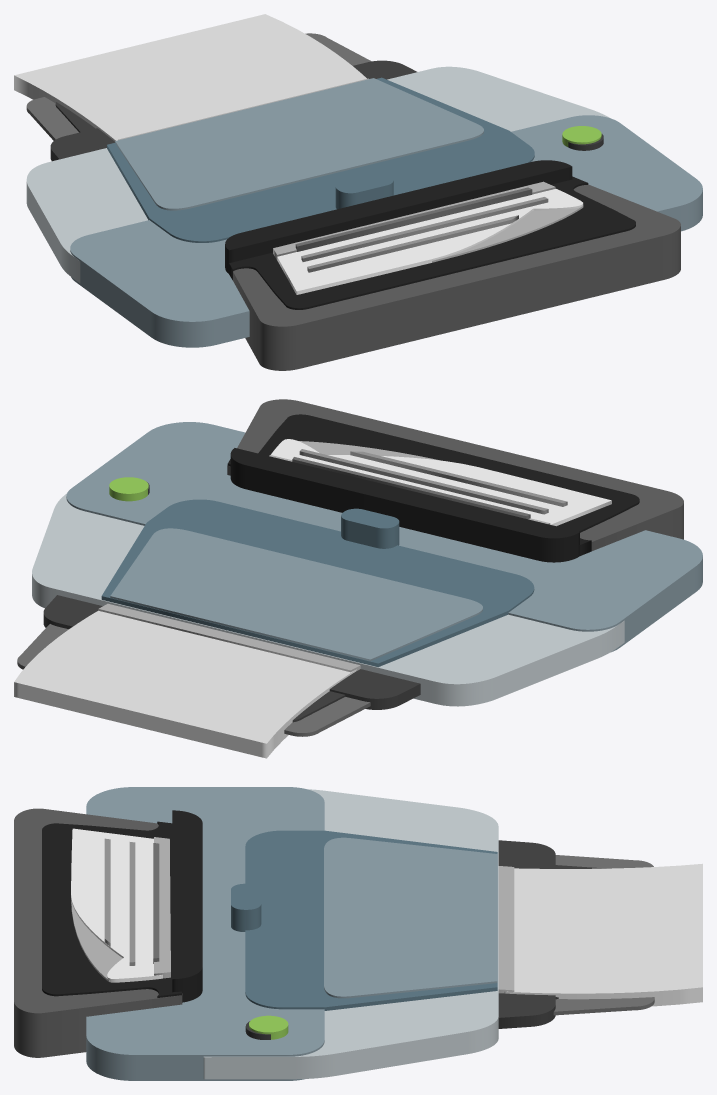
Rendered from emoji_u1f5a8.glb.
The picture shows the model from 3 angles, top to bottom: view 1: azimuth 30°, elevation 25°; view 2: azimuth 150°, elevation 25°; view 3: azimuth 270°, elevation 25°; orthographic projection.
Visible parts, largest first — view 1: emoji_u1f5a8; view 2: emoji_u1f5a8; view 3: emoji_u1f5a8.
Boxes of the visible parts, <box> form: emoji_u1f5a8: <box>14,14,702,370</box>; emoji_u1f5a8: <box>14,399,702,758</box>; emoji_u1f5a8: <box>14,787,702,1080</box>.
Bounding box in the file's own units: 0.031 × 0.004 × 0.0336.
